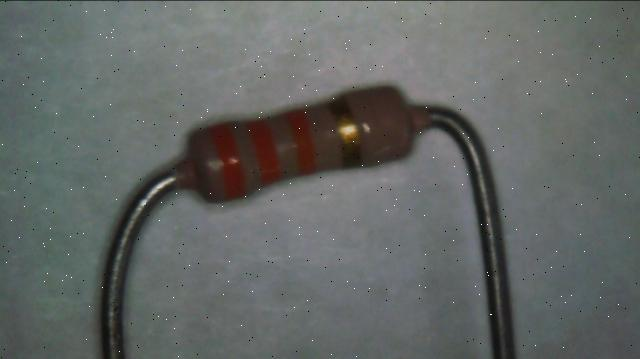gold: (330, 99, 360, 166)
orange: (210, 123, 244, 199), (247, 118, 280, 184), (284, 108, 315, 174)
resistor: (159, 56, 434, 231)
